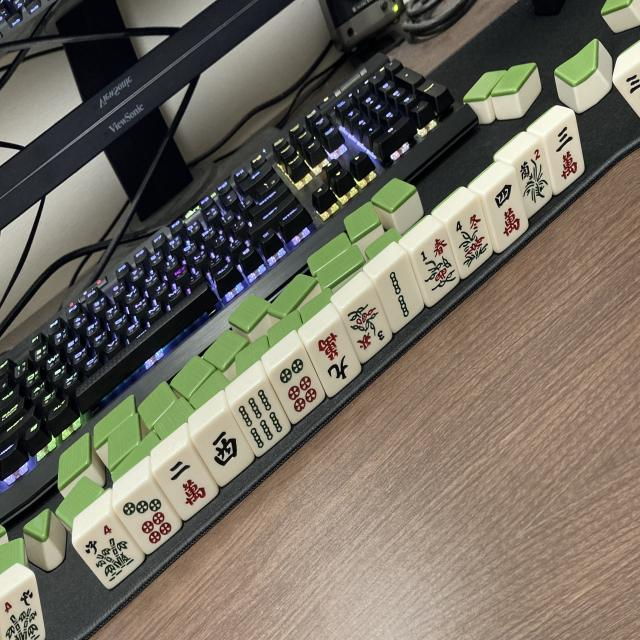f2: (512, 146, 562, 216)
f4: (71, 514, 146, 595), (0, 582, 45, 640)
ff1: (406, 232, 466, 304)
ff3: (336, 293, 396, 365)
ff4: (441, 205, 501, 278)
m2: (153, 443, 225, 522)
m3: (541, 118, 589, 188), (617, 63, 640, 116)
m4: (478, 177, 534, 250)
m9: (302, 321, 366, 395)
s2: (369, 262, 429, 330)
s6: (229, 382, 297, 456)
t6: (268, 350, 332, 422)
t7: (114, 479, 186, 558)
west: (190, 409, 259, 485)
